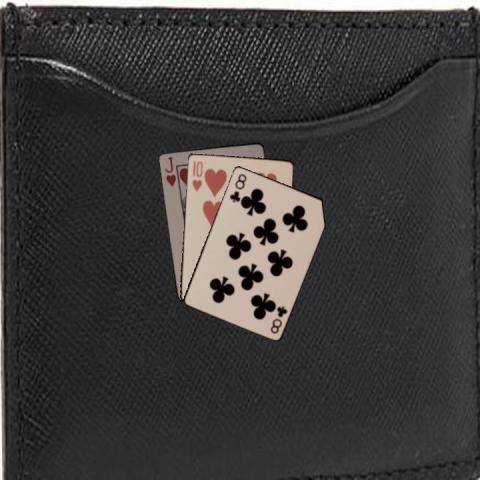10h: (189, 158, 204, 193)
8c: (267, 302, 289, 334), (227, 171, 248, 203)
Jh: (162, 153, 177, 188)
